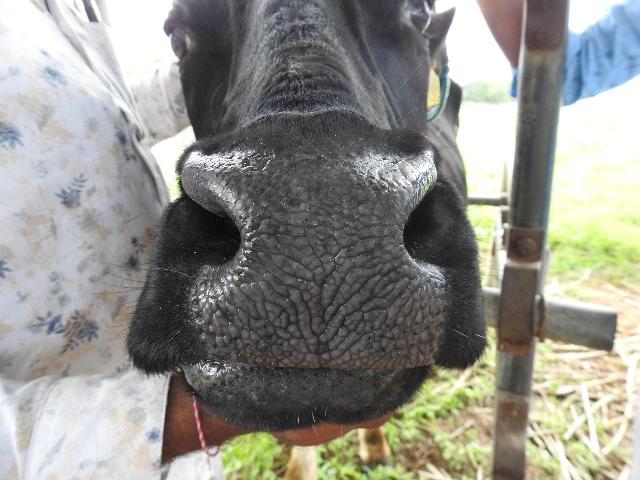Muzzle: (240, 172, 400, 368)
